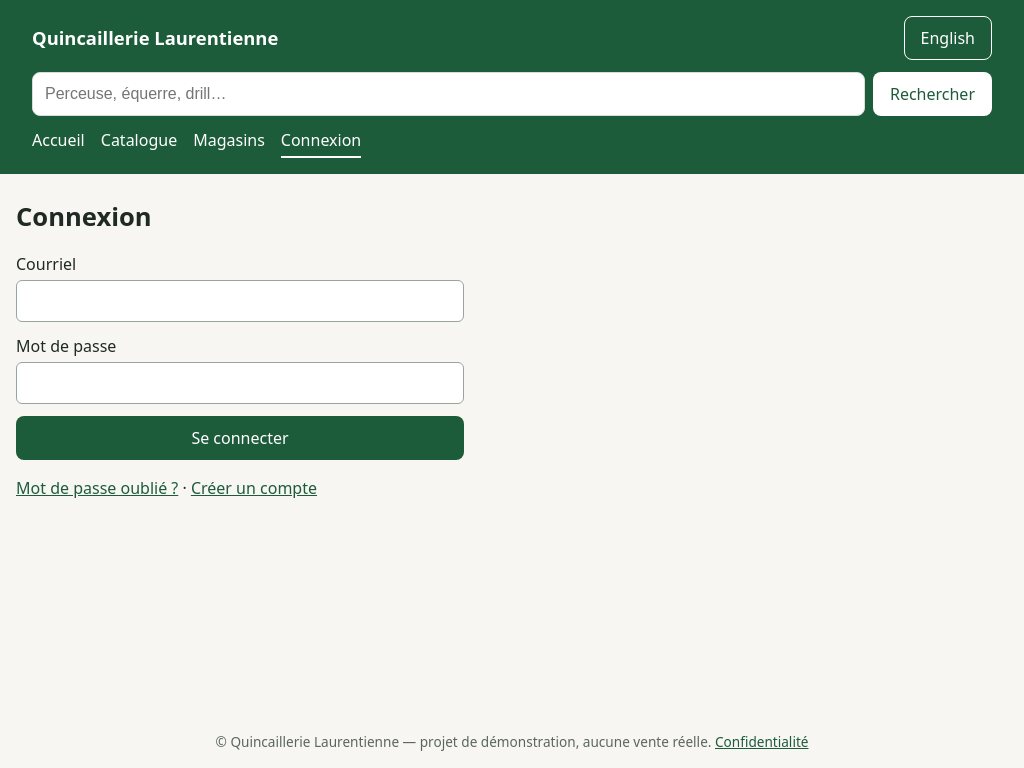
Test: Connexion et session (A-AUTH-02) › affiche un message neutre pour des identifiants incorrects
In the field labelled "Courriel": (240, 301) [16,280,464,322], type "marie@example.com"
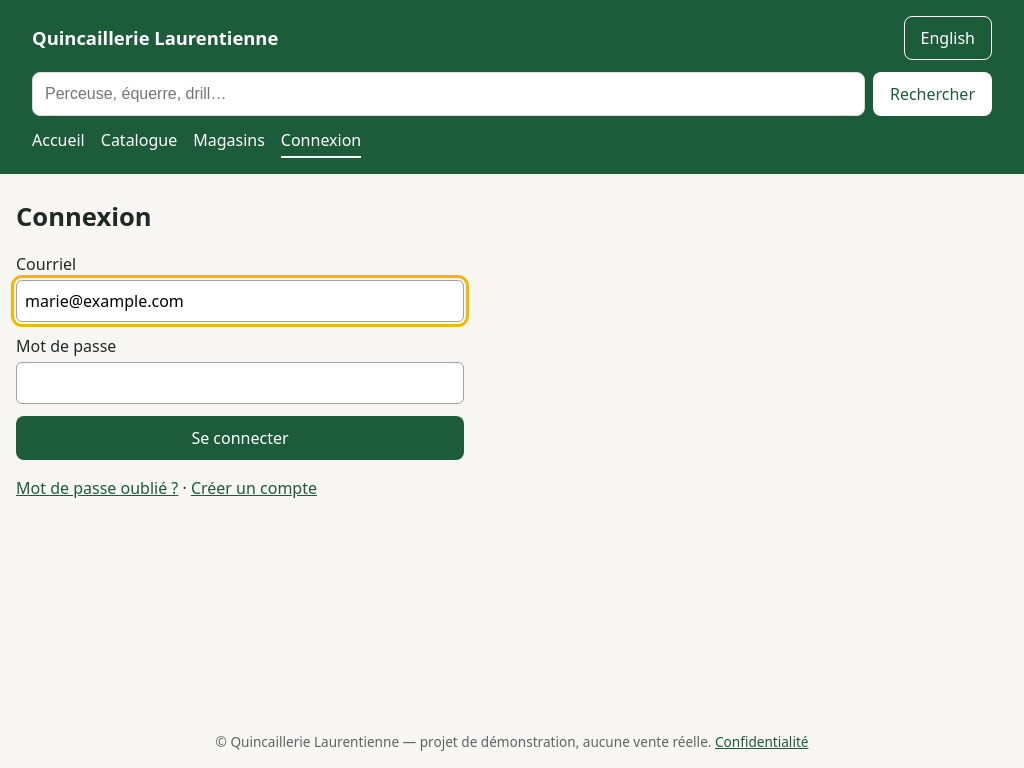
In the password field labelled "Mot de passe": (240, 383) [16,362,464,404], type "mauvais-mot-de-passe"
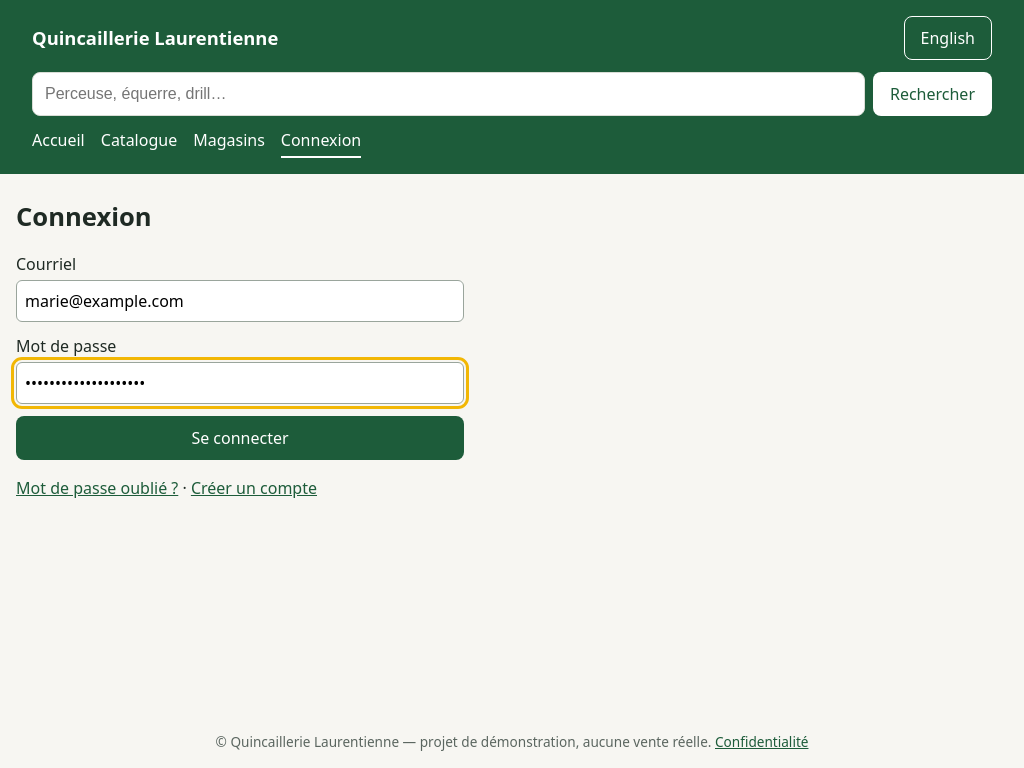
Click the button "Se connecter": (240, 438) [16,416,464,460]
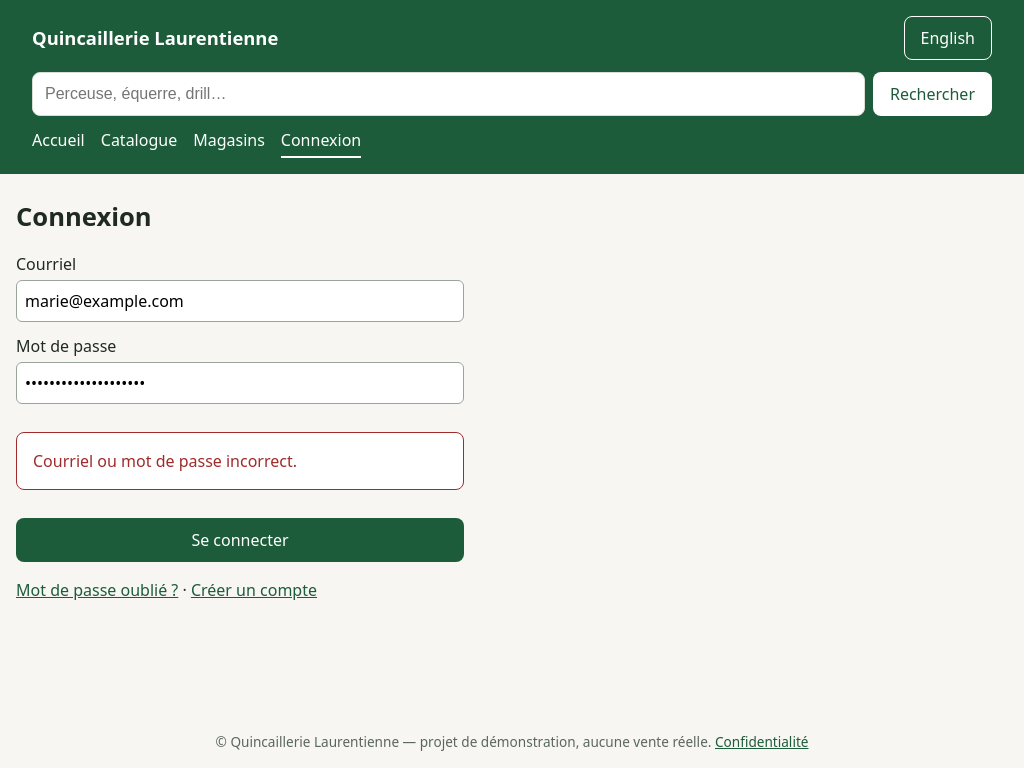
Expected: the message reads "Courriel ou mot de passe incorrect.", [33,450,297,472]
